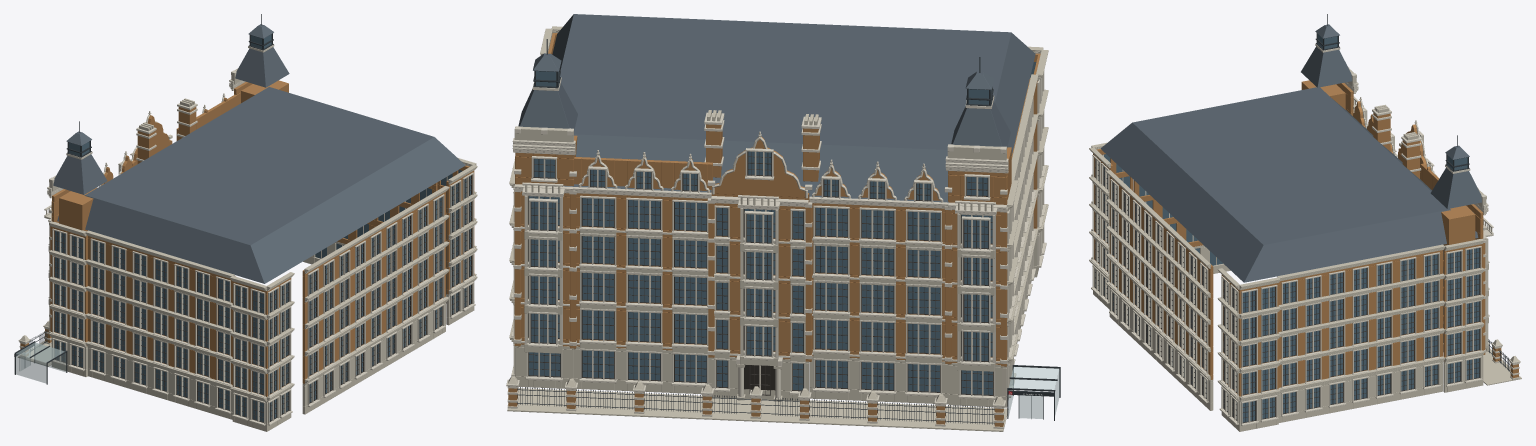
Rendered from sal-exterior-b98a77dd752b.glb.
The picture shows the model from 3 angles, left to right: view 1: azimuth 30°, elevation 25°; view 2: azimuth 150°, elevation 25°; view 3: azimuth 270°, elevation 25°; orthographic projection. The views are drawn at different scales.
Parts seen in each view (by area): view 1: SAL.001; view 2: SAL.001; view 3: SAL.001.
Boxes of the visible parts, x1,y1,x2,y2 form: SAL.001: (14,14,477,431); SAL.001: (506,14,1060,431); SAL.001: (1089,14,1521,431).
Bounding box in the file's own units: 68.1 × 38.24 × 61.14.
